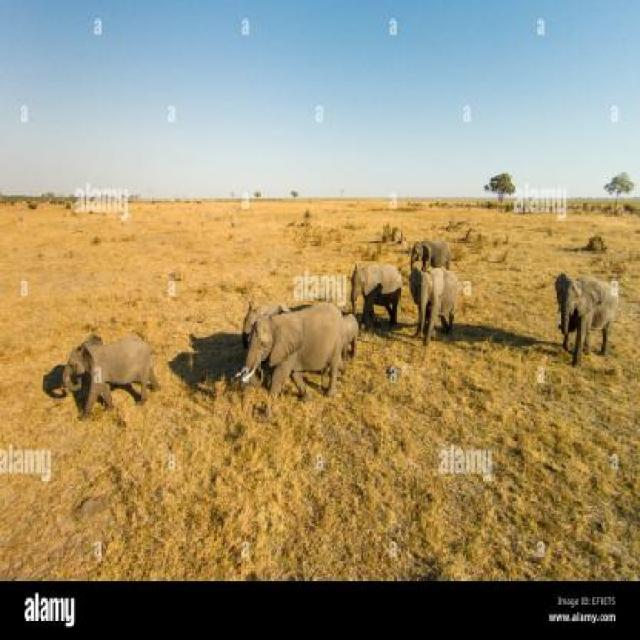elephant: (56, 313, 167, 429), (233, 302, 344, 390), (556, 252, 616, 360), (342, 258, 410, 342), (405, 268, 453, 340), (400, 218, 454, 278), (321, 313, 373, 361), (248, 288, 290, 343)
